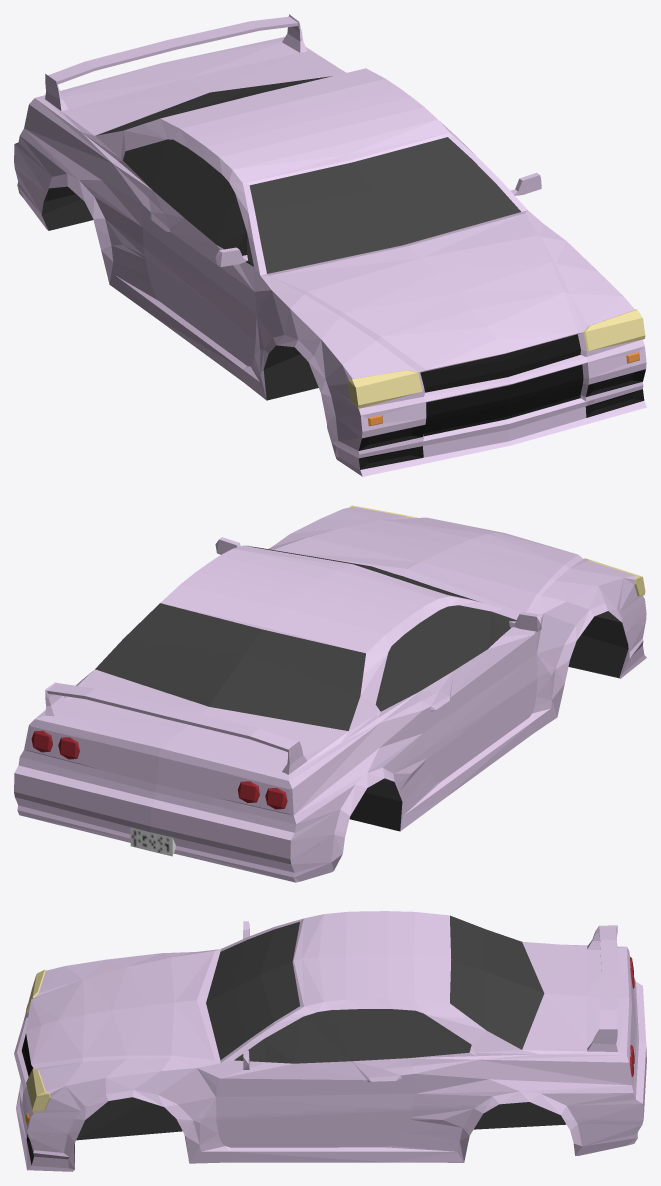
Rendered from skyline gtr.fbx.
3 renders of one model, top to bottom at view 1: azimuth 30°, elevation 25°; view 2: azimuth 150°, elevation 25°; view 3: azimuth 270°, elevation 25°, orthographic. The views are drawn at different scales.
Parts seen in each view (by area): view 1: skyline gtr; view 2: skyline gtr; view 3: skyline gtr.
Boxes of the visible parts, bbox=[...] form: skyline gtr: bbox=[14, 14, 646, 476]; skyline gtr: bbox=[14, 505, 646, 882]; skyline gtr: bbox=[14, 911, 646, 1171].
Bounding box in the file's own units: 3.13 × 1.65 × 6.04.
